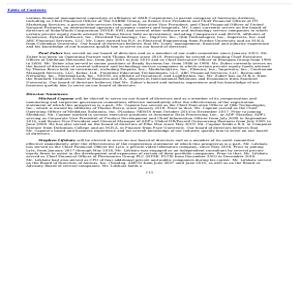text: (6, 7, 274, 167)
